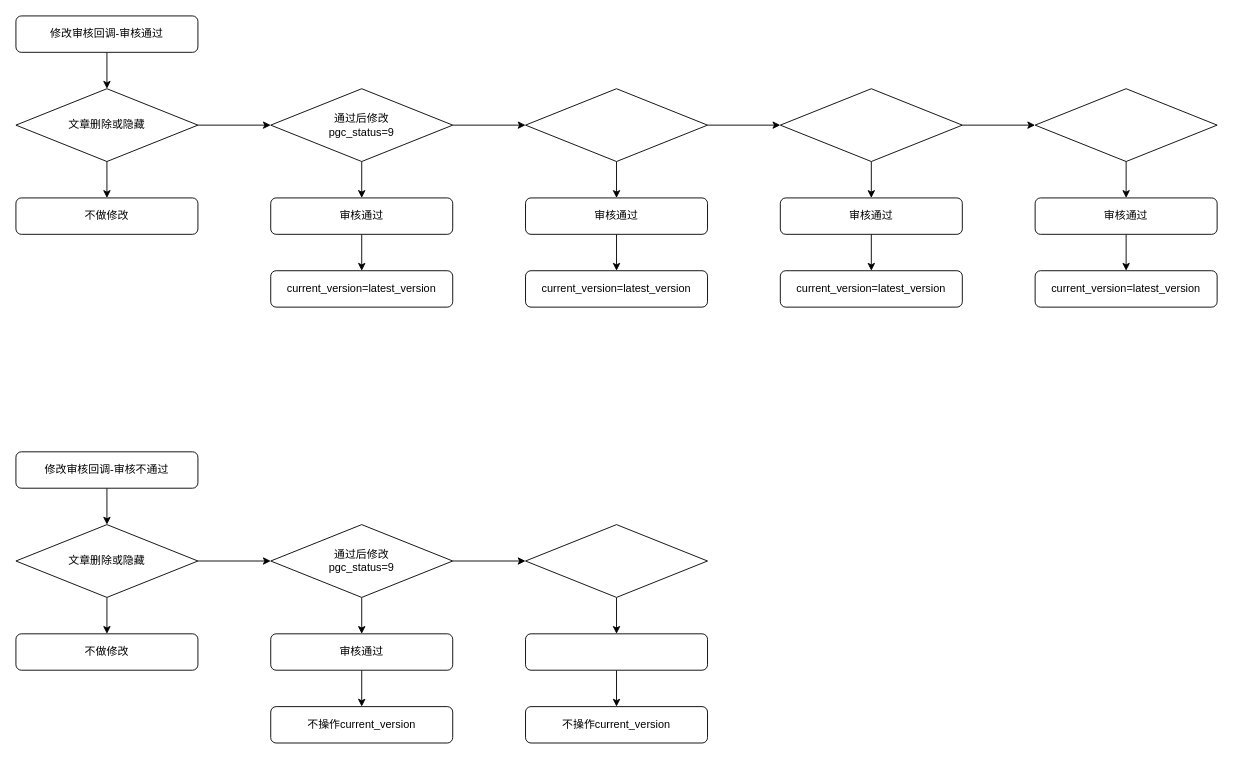
The diagram is 1233 pixels wide and 759 high, and some of its shapes have lost their labels. Here are the shapes that lost their labels. From the top down, the centre of each, then its label:
the point at 616,125: 未通过后修改 pgc_status=7
the point at 870,125: 通过 pgc_status=3
the point at 1125,125: 不通过 pgc_status=0
the point at 616,560: 未通过后修改/通过/不通过/ 审核中/待消重等
the point at 616,651: 审核不通过
